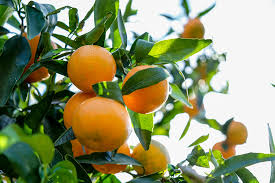orange: (72, 101, 134, 149), (67, 44, 120, 95), (122, 64, 171, 113), (131, 138, 174, 177)
